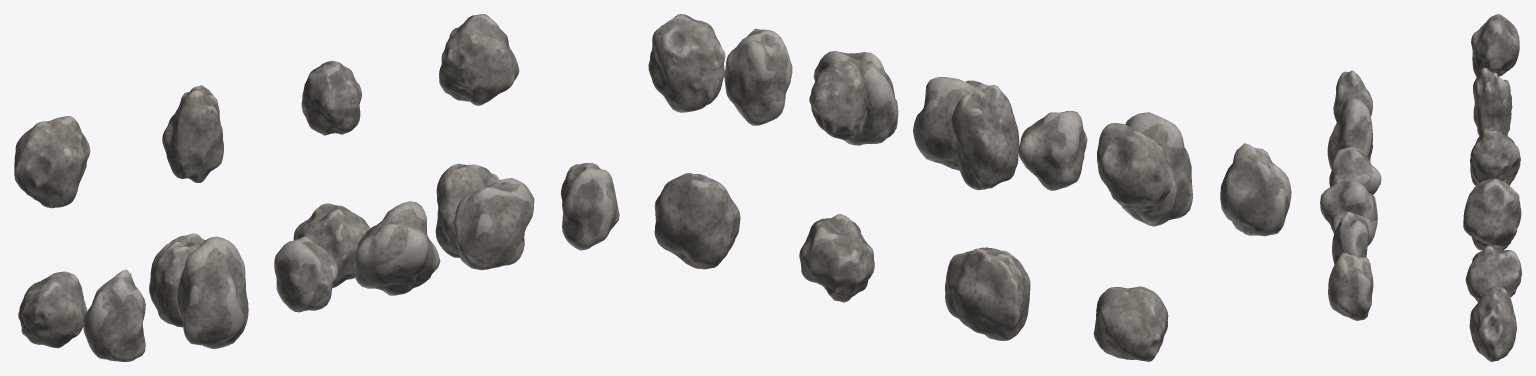
The model's file is static_rocks.glb.
3 views of the same model, side by side, from view 1: azimuth 30°, elevation 25°; view 2: azimuth 150°, elevation 25°; view 3: azimuth 270°, elevation 25° (orthographic). The views are drawn at different scales.
Parts seen in each view (by area): view 1: ROCK_S1, ROCK_S4, ROCK_S3, ROCK_B4, ROCK_B7, ROCK_B5, ROCK_S0, ROCK_S5, ROCK_B0, ROCK_S2, ROCK_B6, ROCK_B2 (+2 smaller); view 2: ROCK_B1, ROCK_B3, ROCK_B7, ROCK_B5, ROCK_S5, ROCK_B4, ROCK_S0, ROCK_B2, ROCK_B0, ROCK_S2, ROCK_B6, ROCK_S3 (+2 smaller); view 3: ROCK_B7, ROCK_B3, ROCK_S5, ROCK_B4, ROCK_B2, ROCK_B5, ROCK_B6, ROCK_S3, ROCK_S1, ROCK_S2, ROCK_S4, ROCK_S0 (+1 smaller).
Boxes of the visible parts, bbox=[...] form: ROCK_S1: bbox=[176, 236, 248, 348]; ROCK_S4: bbox=[454, 178, 534, 270]; ROCK_S3: bbox=[354, 201, 440, 295]; ROCK_B4: bbox=[14, 116, 90, 208]; ROCK_B7: bbox=[439, 14, 519, 105]; ROCK_B5: bbox=[162, 85, 223, 182]; ROCK_S0: bbox=[83, 269, 145, 361]; ROCK_S5: bbox=[560, 163, 619, 250]; ROCK_B0: bbox=[18, 271, 87, 348]; ROCK_S2: bbox=[274, 236, 338, 312]; ROCK_B6: bbox=[301, 60, 361, 135]; ROCK_B2: bbox=[293, 203, 370, 288]; ROCK_B1: bbox=[945, 247, 1030, 340]; ROCK_B3: bbox=[654, 172, 740, 269]; ROCK_B7: bbox=[648, 14, 725, 112]; ROCK_B5: bbox=[951, 85, 1019, 190]; ROCK_S5: bbox=[724, 28, 792, 125]; ROCK_B4: bbox=[1097, 123, 1172, 211]; ROCK_S0: bbox=[1220, 143, 1291, 236]; ROCK_B2: bbox=[799, 214, 874, 302]; ROCK_B0: bbox=[1093, 286, 1168, 361]; ROCK_S2: bbox=[1018, 111, 1087, 190]; ROCK_B6: bbox=[809, 61, 870, 140]; ROCK_S3: bbox=[913, 77, 989, 170]; ROCK_B7: bbox=[1463, 178, 1521, 246]; ROCK_B3: bbox=[1469, 287, 1516, 361]; ROCK_S5: bbox=[1328, 252, 1373, 320]; ROCK_B4: bbox=[1471, 14, 1519, 77]; ROCK_B2: bbox=[1465, 245, 1521, 302]; ROCK_B5: bbox=[1473, 67, 1512, 135]; ROCK_B6: bbox=[1470, 128, 1520, 183]; ROCK_S3: bbox=[1320, 179, 1377, 245]; ROCK_S1: bbox=[1327, 97, 1372, 169]; ROCK_S2: bbox=[1329, 147, 1381, 194]; ROCK_S4: bbox=[1332, 211, 1368, 264]; ROCK_S0: bbox=[1333, 70, 1372, 122].
Size of the model in its own units: 16.96 by 7.24 by 7.13.
1 material, 1 textured.
